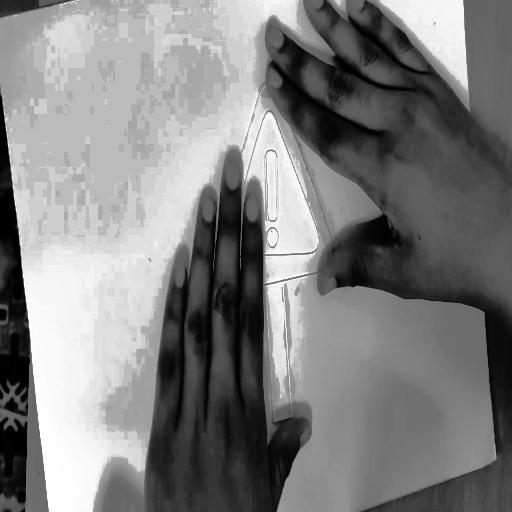bottom_right: (493, 451, 501, 466)
signboard: (199, 51, 369, 456)
